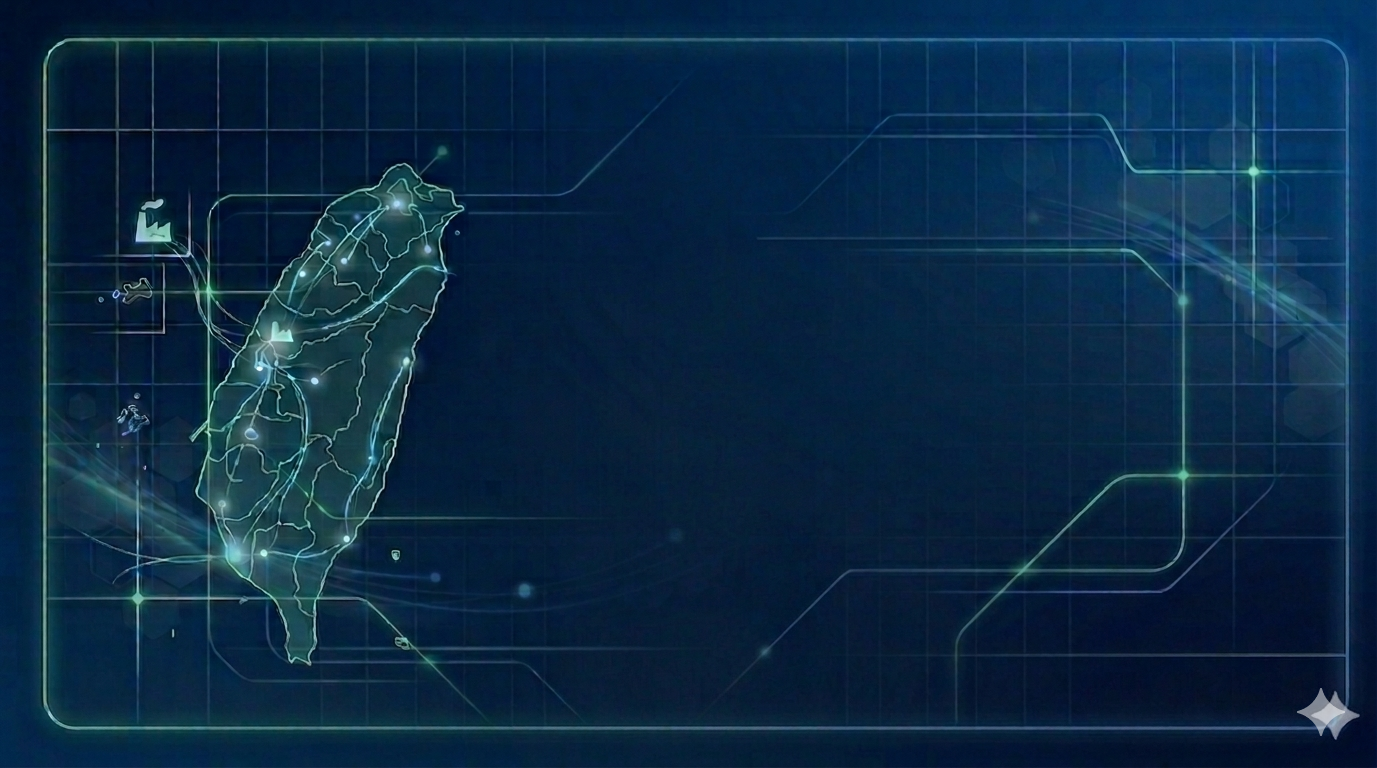

What the dashboard file says about the page in this screenshot:
{"tool":"powerbi","page":{"name":"封面","canvas":[1280,720],"ordinal":0},"visuals":[{"type":"actionButton","box":[1200.4,647.7,79.6,72],"z":0}]}

Visuals, with their boxes in screenshot pixels (x1, y1, x2, y2), scaled from the page's 1280x720 canvas onto the 1377x768 screenshot:
actionButton: x1=1291 y1=691 x2=1376 y2=767
